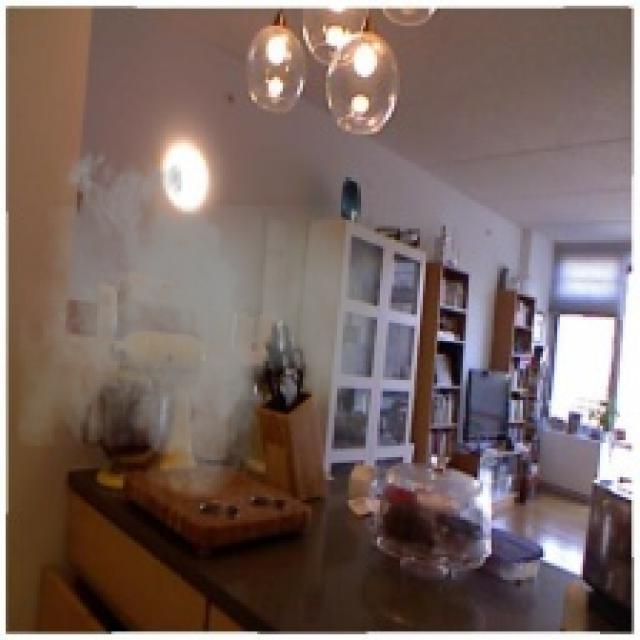Smoke: (17, 139, 383, 512)
